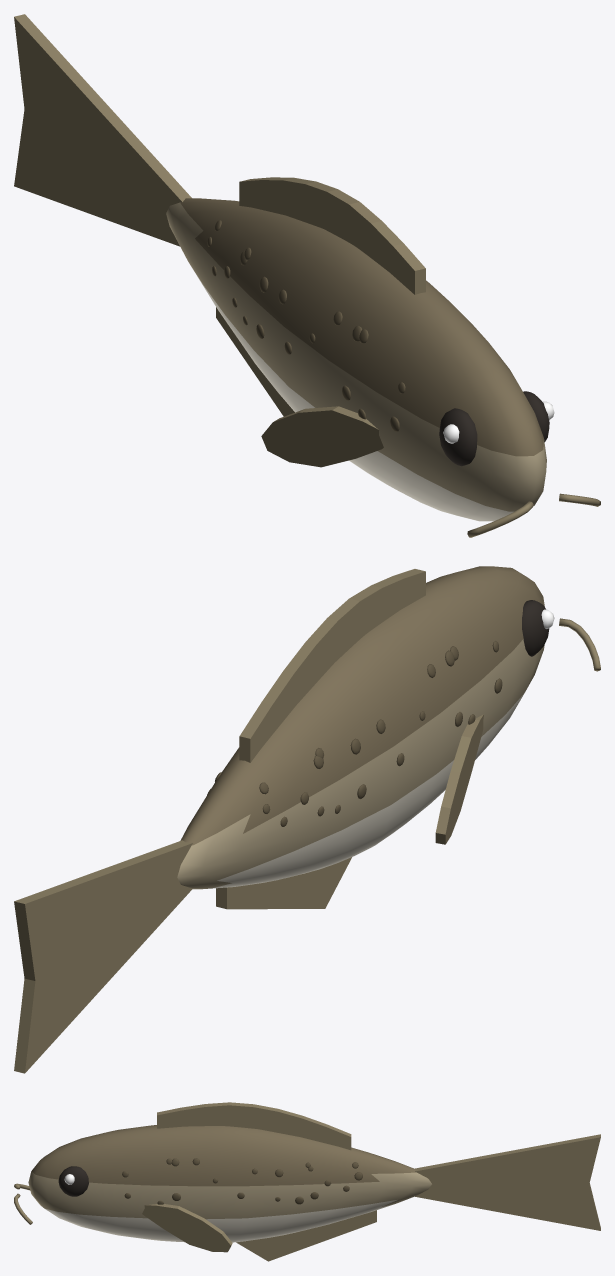
The model's file is sea-cod.glb.
3 views of the same model, one above another, from view 1: azimuth 30°, elevation 25°; view 2: azimuth 150°, elevation 25°; view 3: azimuth 270°, elevation 25° (orthographic). The views are drawn at different scales.
Parts seen in each view (by area): view 1: fish; view 2: fish; view 3: fish.
Part boxes in pixels (bbox=[...]): fish: bbox=[14, 14, 600, 537]; fish: bbox=[14, 566, 600, 1073]; fish: bbox=[14, 1102, 600, 1261].
Size of the model in its own units: 0.1009 by 0.1478 by 0.503.
